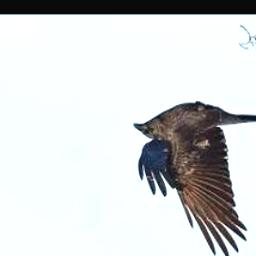Crow: (134, 102, 256, 256)
